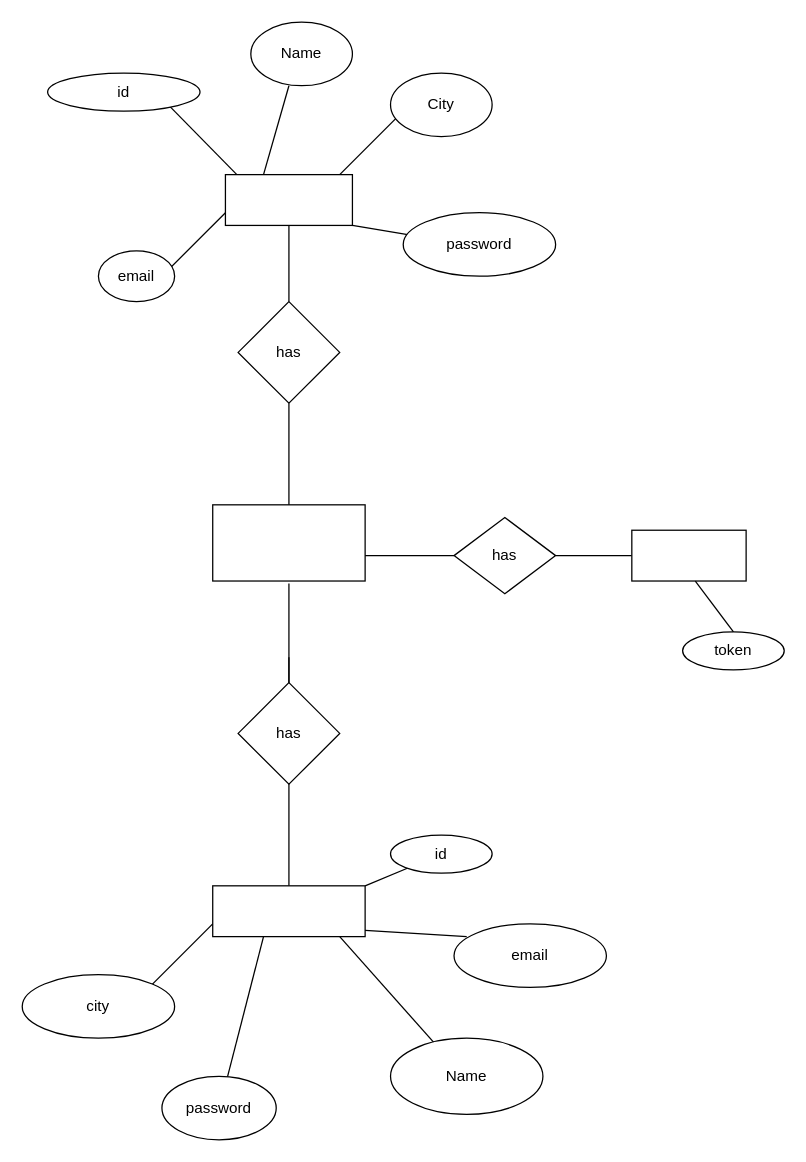
The diagram is 806 pixels wide and 1162 high, and some of its shapes have lost their labels. Here are the shapes that lost their labels. From the top down, the box of each, then its label:
(224, 173, 352, 225): Admin
(211, 504, 365, 581): OurUser
(631, 529, 746, 581): Authentication
(211, 885, 365, 937): Employee
